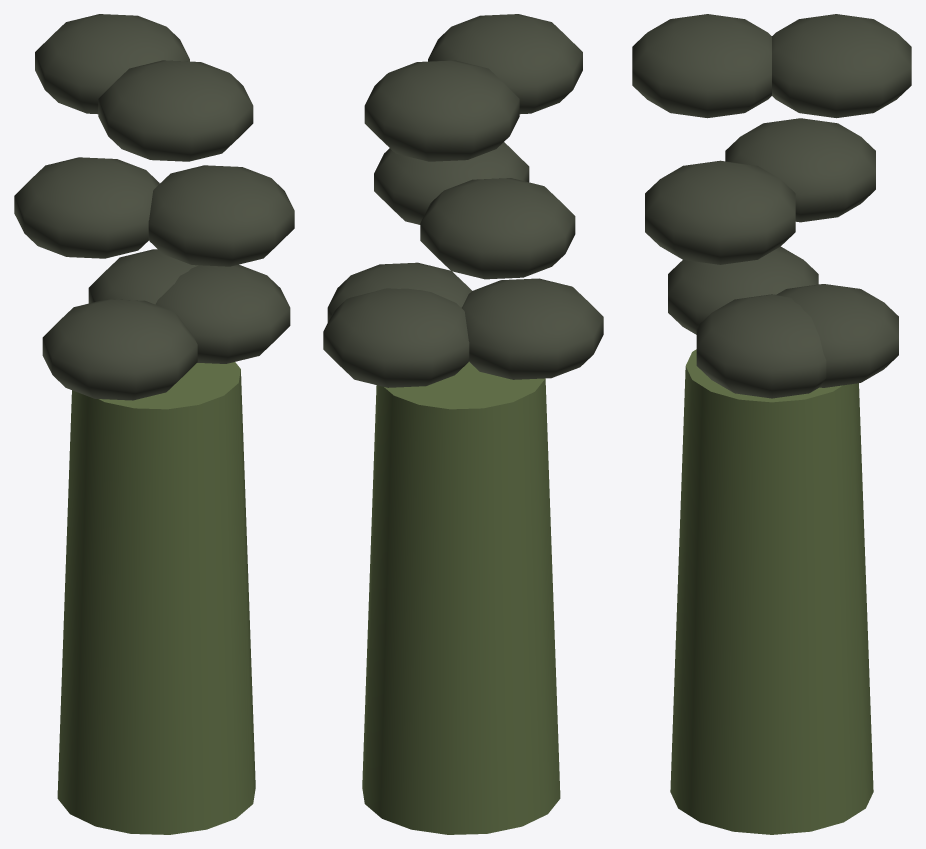
File: plant-table.glb
The picture shows the model from 3 angles, left to right: view 1: azimuth 30°, elevation 25°; view 2: azimuth 150°, elevation 25°; view 3: azimuth 270°, elevation 25°; orthographic projection.
Visible parts, largest first — view 1: REF-L01-R01-plant-table-part-1, REF-L01-R01-plant-table-part-4, REF-L01-R01-plant-table-part-5, REF-L01-R01-plant-table-part-3, REF-L01-R01-plant-table-part-6, REF-L01-R01-plant-table-part-2, REF-L01-R01-plant-table-part-7, REF-L01-R01-plant-table-part-8; view 2: REF-L01-R01-plant-table-part-1, REF-L01-R01-plant-table-part-7, REF-L01-R01-plant-table-part-6, REF-L01-R01-plant-table-part-8, REF-L01-R01-plant-table-part-5, REF-L01-R01-plant-table-part-4, REF-L01-R01-plant-table-part-3, REF-L01-R01-plant-table-part-2; view 3: REF-L01-R01-plant-table-part-1, REF-L01-R01-plant-table-part-3, REF-L01-R01-plant-table-part-4, REF-L01-R01-plant-table-part-7, REF-L01-R01-plant-table-part-2, REF-L01-R01-plant-table-part-6, REF-L01-R01-plant-table-part-8, REF-L01-R01-plant-table-part-5.
Part boxes in pixels (x1=…): REF-L01-R01-plant-table-part-1: x1=57, y1=362, x2=255, y2=834; REF-L01-R01-plant-table-part-4: x1=98, y1=60, x2=253, y2=161; REF-L01-R01-plant-table-part-5: x1=42, y1=299, x2=197, y2=400; REF-L01-R01-plant-table-part-3: x1=148, y1=165, x2=294, y2=266; REF-L01-R01-plant-table-part-6: x1=14, y1=157, x2=159, y2=258; REF-L01-R01-plant-table-part-2: x1=155, y1=264, x2=290, y2=363; REF-L01-R01-plant-table-part-7: x1=35, y1=14, x2=189, y2=114; REF-L01-R01-plant-table-part-8: x1=88, y1=249, x2=198, y2=304; REF-L01-R01-plant-table-part-1: x1=362, y1=362, x2=560, y2=834; REF-L01-R01-plant-table-part-7: x1=364, y1=60, x2=519, y2=161; REF-L01-R01-plant-table-part-6: x1=420, y1=178, x2=575, y2=279; REF-L01-R01-plant-table-part-8: x1=323, y1=288, x2=469, y2=387; REF-L01-R01-plant-table-part-5: x1=461, y1=278, x2=603, y2=379; REF-L01-R01-plant-table-part-4: x1=428, y1=14, x2=582, y2=114; REF-L01-R01-plant-table-part-3: x1=374, y1=142, x2=529, y2=224; REF-L01-R01-plant-table-part-2: x1=327, y1=262, x2=471, y2=322; REF-L01-R01-plant-table-part-1: x1=670, y1=349, x2=873, y2=834; REF-L01-R01-plant-table-part-3: x1=645, y1=160, x2=795, y2=264; REF-L01-R01-plant-table-part-4: x1=632, y1=14, x2=771, y2=118; REF-L01-R01-plant-table-part-7: x1=772, y1=14, x2=911, y2=118; REF-L01-R01-plant-table-part-2: x1=696, y1=294, x2=826, y2=398; REF-L01-R01-plant-table-part-6: x1=725, y1=118, x2=875, y2=222; REF-L01-R01-plant-table-part-8: x1=776, y1=284, x2=898, y2=387; REF-L01-R01-plant-table-part-5: x1=668, y1=246, x2=818, y2=334.
Size of the model in its own units: 0.0489 by 0.1445 by 0.0481.
